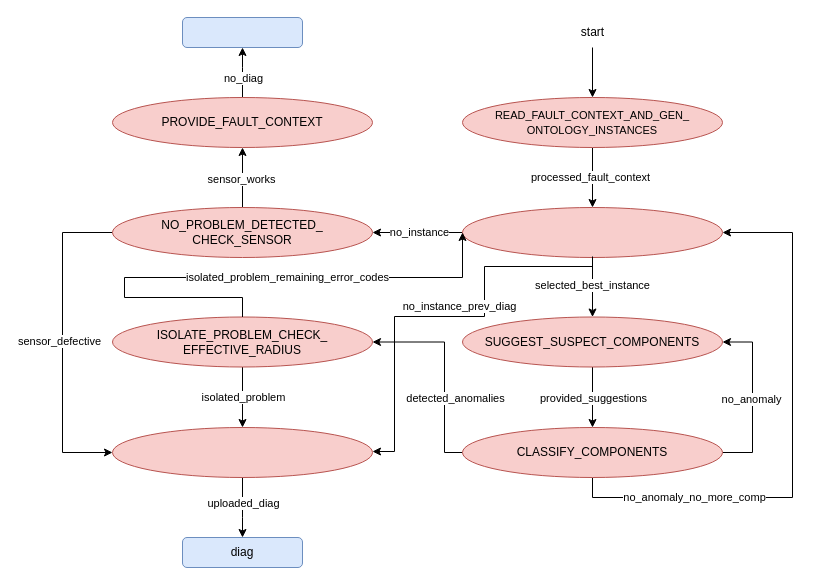
Image size: 818x585. Some labels were removed from this diagram. Here are the shapes that lost their labels. From the top down, the centre of each, then its label:
At point (242, 32): "refuted_hypothesis".
At point (592, 232): "SELECT_UNUSED_ERROR_CODE".
At point (242, 452): "PROVIDE_DIAG_AND_SHOW_TRACE".
